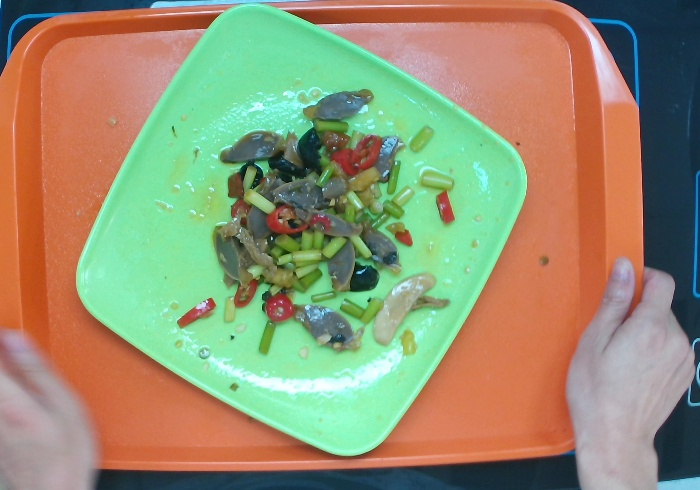ZNLD-Lv_Fang_Pan: (76, 2, 528, 459)
